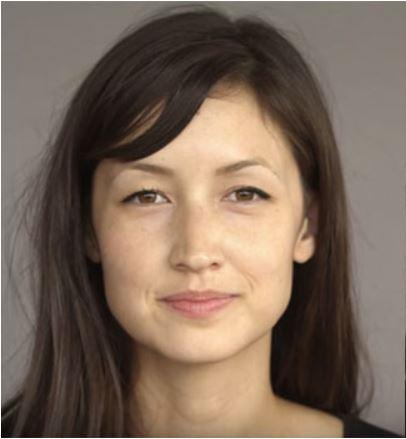Sober: (97, 117, 292, 339)
